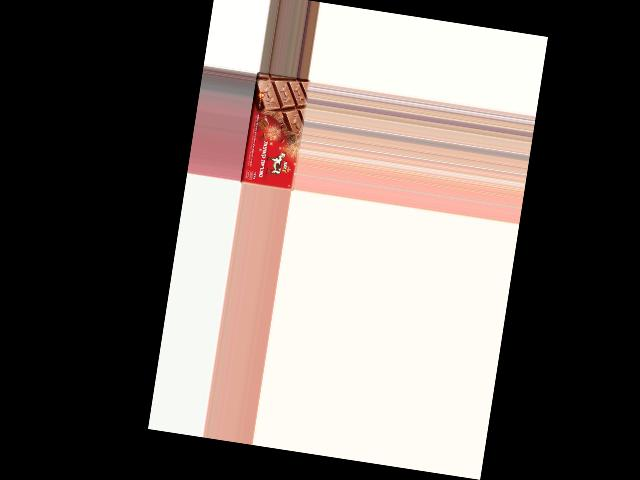chocolate: (240, 72, 309, 191)
